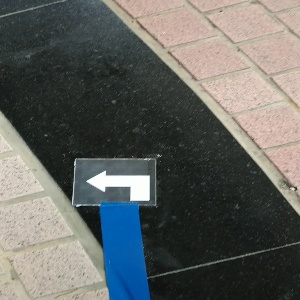left: (73, 158, 157, 206)
